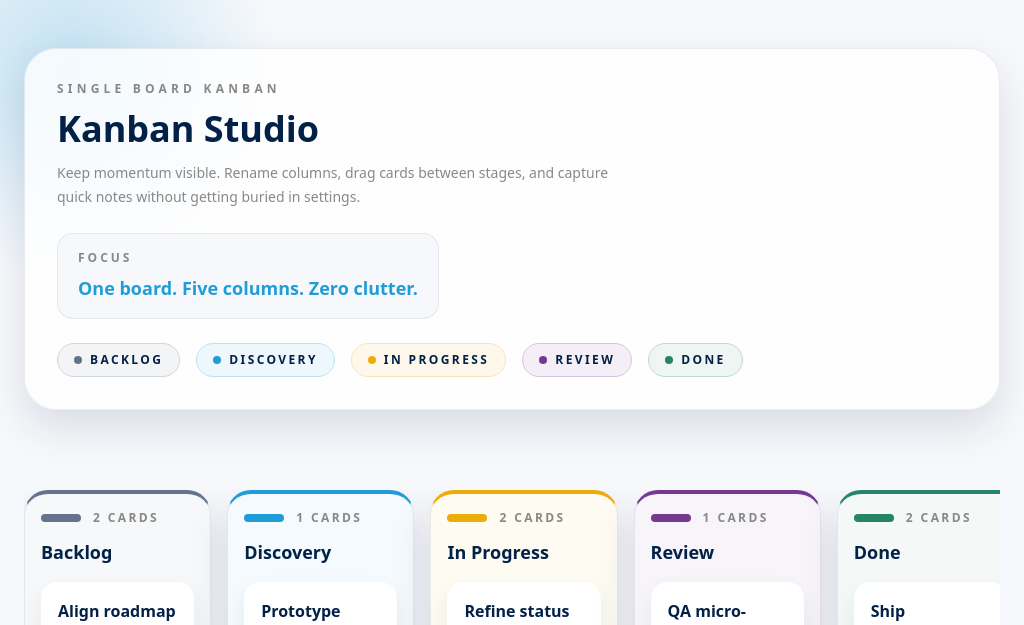
Test case: persistent KanbanBoard › loads five columns and commits renames only on save
Replace the text in the 1st field named "Column title" with "Ideas" at (118, 552), box [41,538,194,566]
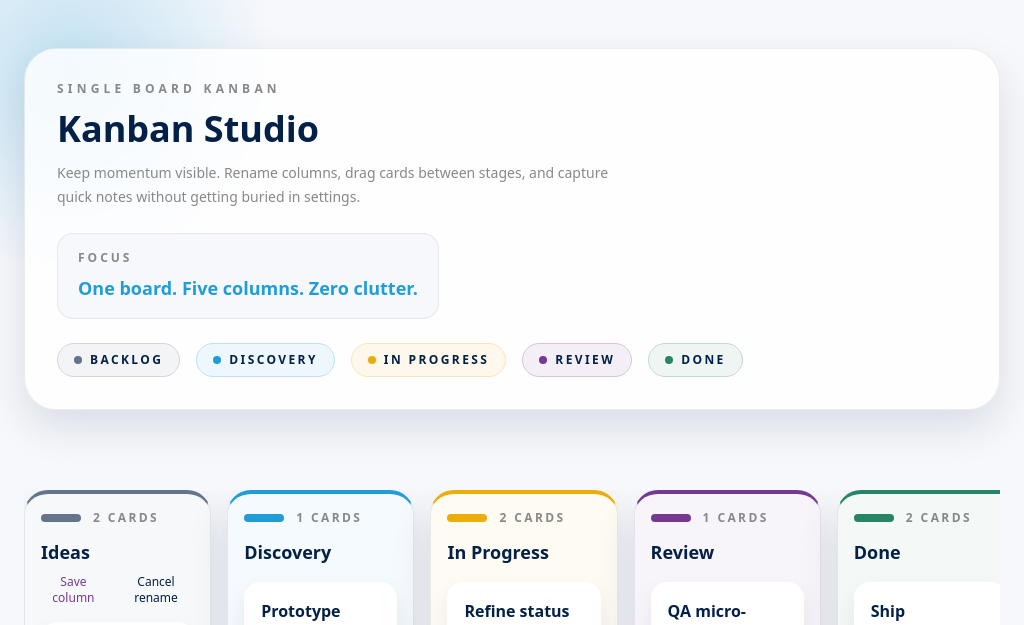
Click the button "Save column".
click(73, 590)  # box [41,574,106,606]
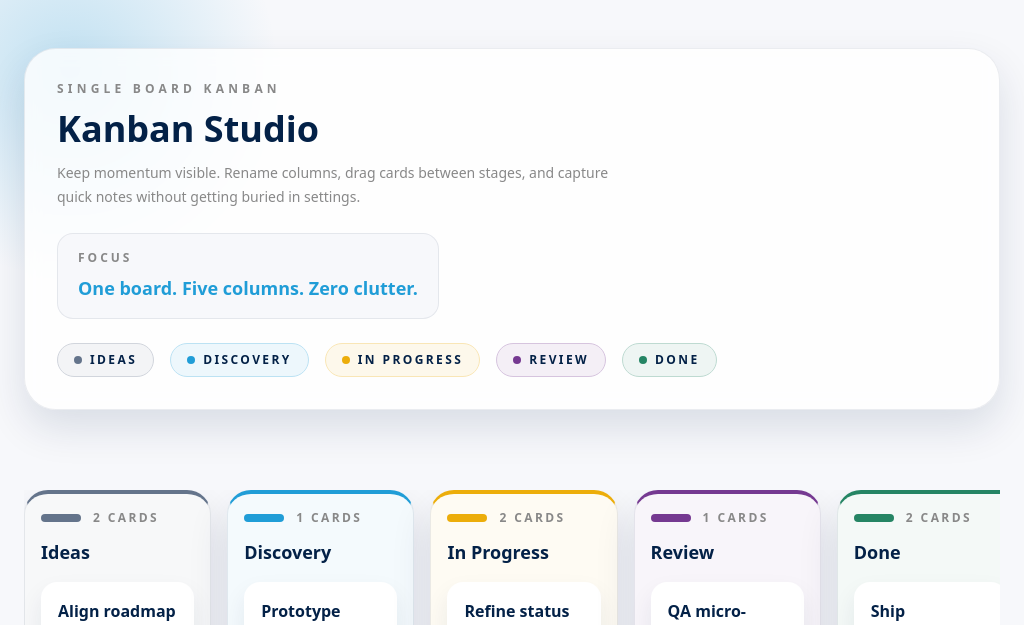
Expected: the text "Ideas" is shown, [57,343,154,377]
